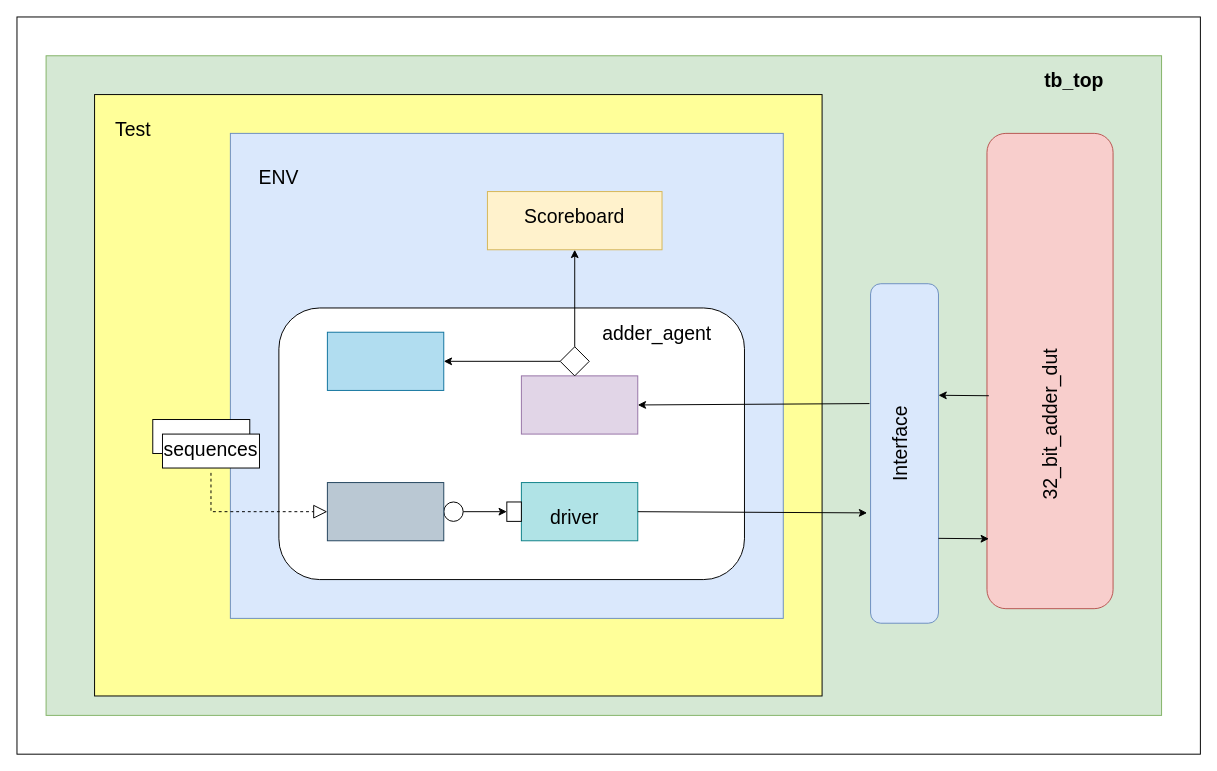
Image size: 1217x771. Some labels were removed from this diagram. Each missing label, with the centre of its shape:
"coverage" belongs at (x=385, y=360).
"Monitor" belongs at (x=579, y=404).
"sequencer" belongs at (x=385, y=511).
